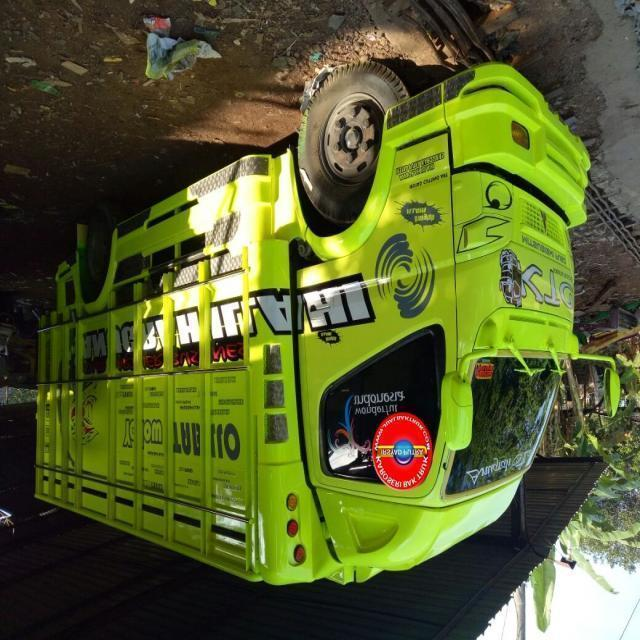truck: (31, 54, 619, 603)
